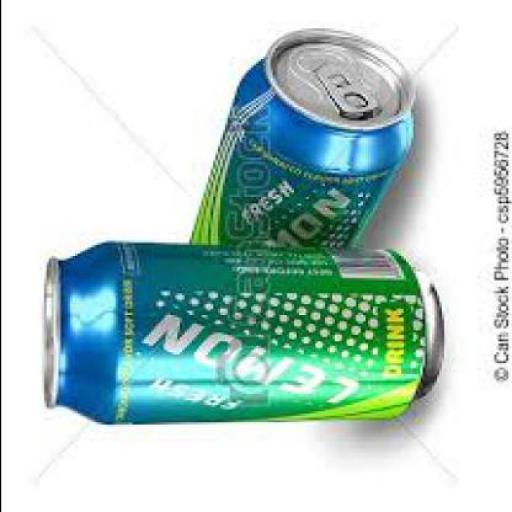metal: (41, 245, 438, 429), (184, 33, 412, 249)
